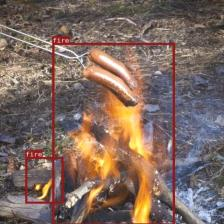fire: (52, 42, 174, 224), (25, 156, 63, 203)
